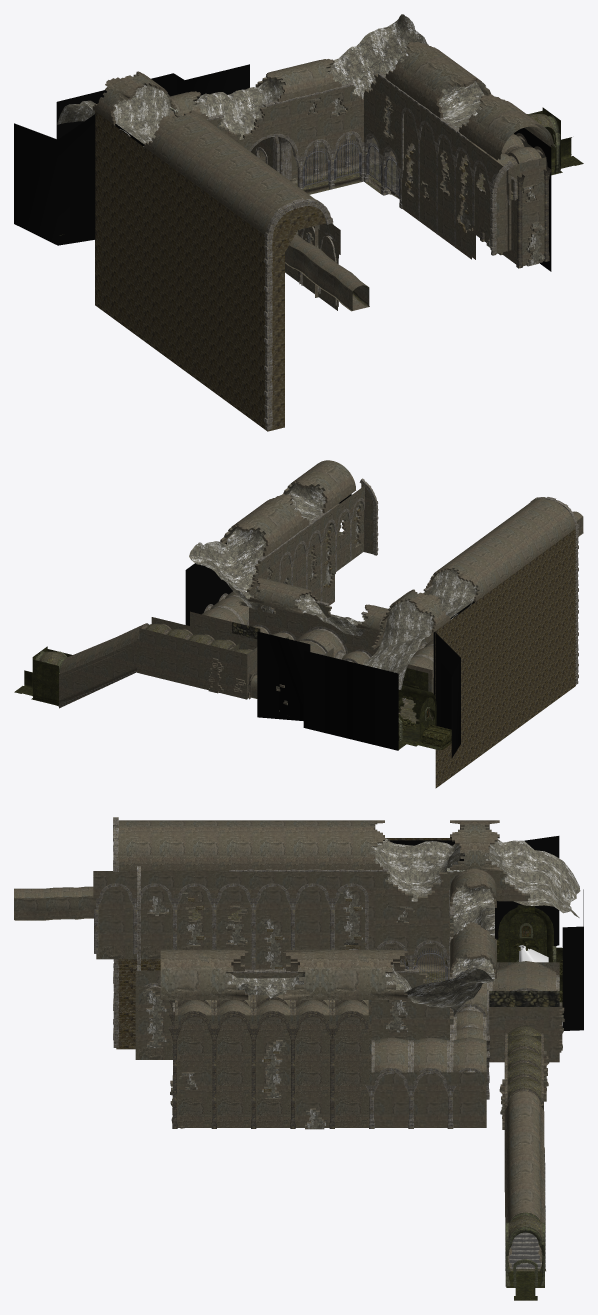
File: map_part2.fbx
3 renders of one model, top to bottom at view 1: azimuth 30°, elevation 25°; view 2: azimuth 150°, elevation 25°; view 3: azimuth 270°, elevation 25°, orthographic. The views are drawn at different scales.
Visible parts, largest first — view 1: m0062B1A18, m0060B1A18, m0061B1A18, m0080B1A18; view 2: m0062B1A18, m0080B1A18, m0060B1A18, m0070B1A18; view 3: m0060B1A18, m0062B1A18, m0080B1A18, m0070B1A18.
Part boxes in pixels (bbox=[...]): m0062B1A18: bbox=[14, 14, 553, 431]; m0060B1A18: bbox=[249, 107, 551, 311]; m0061B1A18: bbox=[302, 139, 399, 198]; m0080B1A18: bbox=[259, 107, 583, 175]; m0062B1A18: bbox=[185, 460, 578, 788]; m0080B1A18: bbox=[14, 617, 257, 708]; m0060B1A18: bbox=[190, 498, 583, 720]; m0070B1A18: bbox=[398, 665, 451, 750]; m0060B1A18: bbox=[14, 883, 564, 1129]; m0062B1A18: bbox=[93, 817, 583, 1049]; m0080B1A18: bbox=[499, 1016, 549, 1300]; m0070B1A18: bbox=[496, 905, 562, 1014].
Size of the model in its own units: 55.67 by 21.74 by 45.98.
